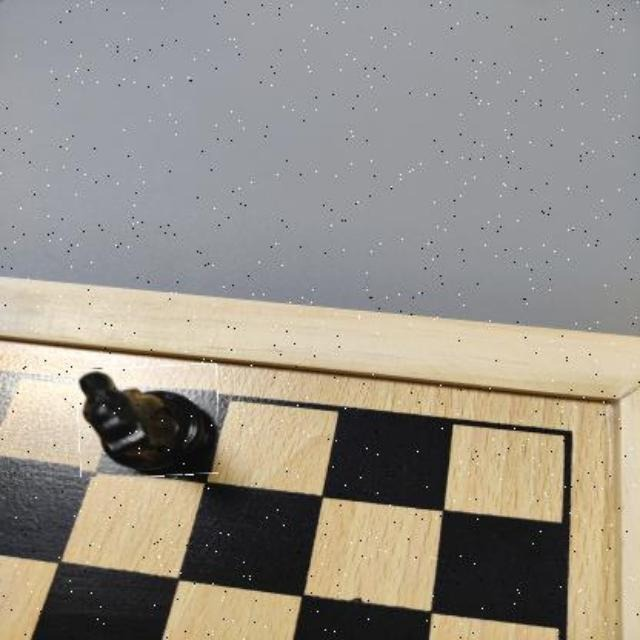black-knight: (76, 365, 219, 477)
